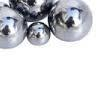ironball: (51, 0, 97, 42), (0, 7, 31, 55), (11, 0, 58, 22), (29, 20, 53, 53), (0, 0, 1, 18)
